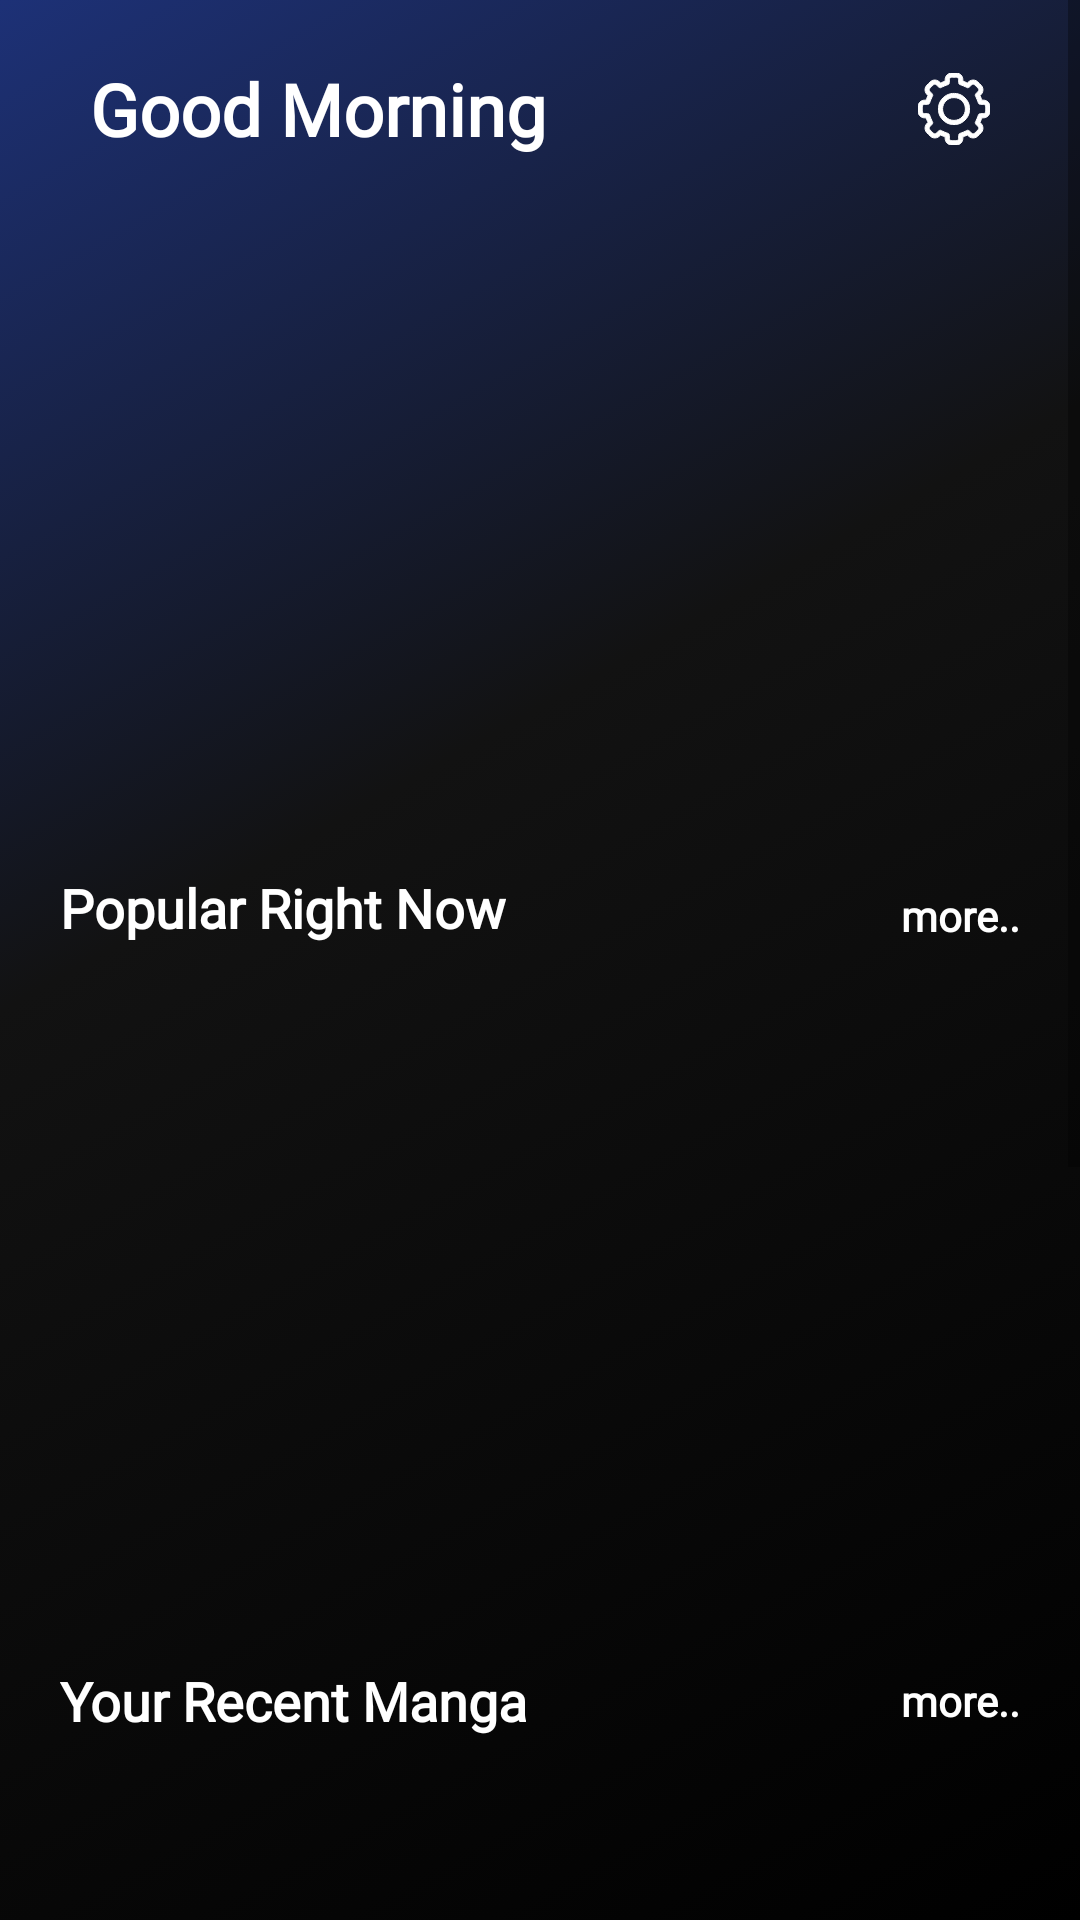

Where icons sit on this 1080px×1920px app screen, as (x1, y1, x2, y2):
settings: (918, 73, 990, 145)
